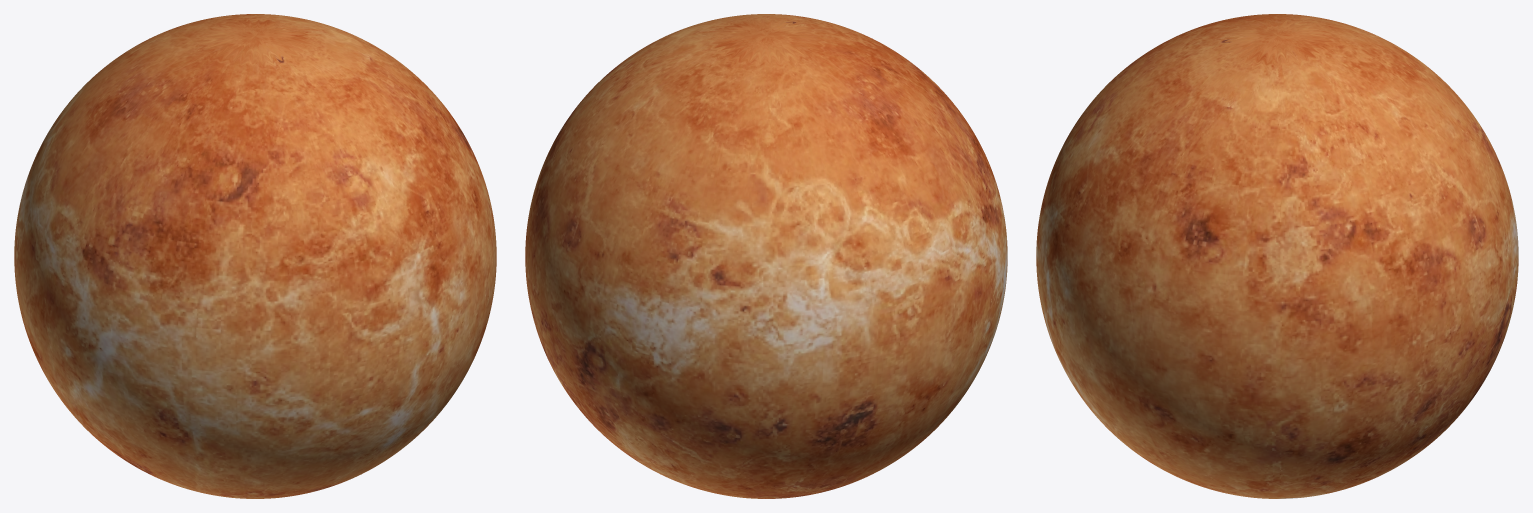
The model's file is saturn.gltf.
3 renders of one model, left to right at view 1: azimuth 30°, elevation 25°; view 2: azimuth 150°, elevation 25°; view 3: azimuth 270°, elevation 25°, orthographic.
Parts seen in each view (by area): view 1: Sphere_2; view 2: Sphere_2; view 3: Sphere_2.
Part boxes in pixels (box(x1,y1,x2,y2)): Sphere_2: box(14, 14, 496, 498); Sphere_2: box(525, 14, 1007, 498); Sphere_2: box(1036, 14, 1518, 498).
Size of the model in its own units: 2.23 by 2.25 by 2.23.
Materials: 1 (1 with a texture image).
